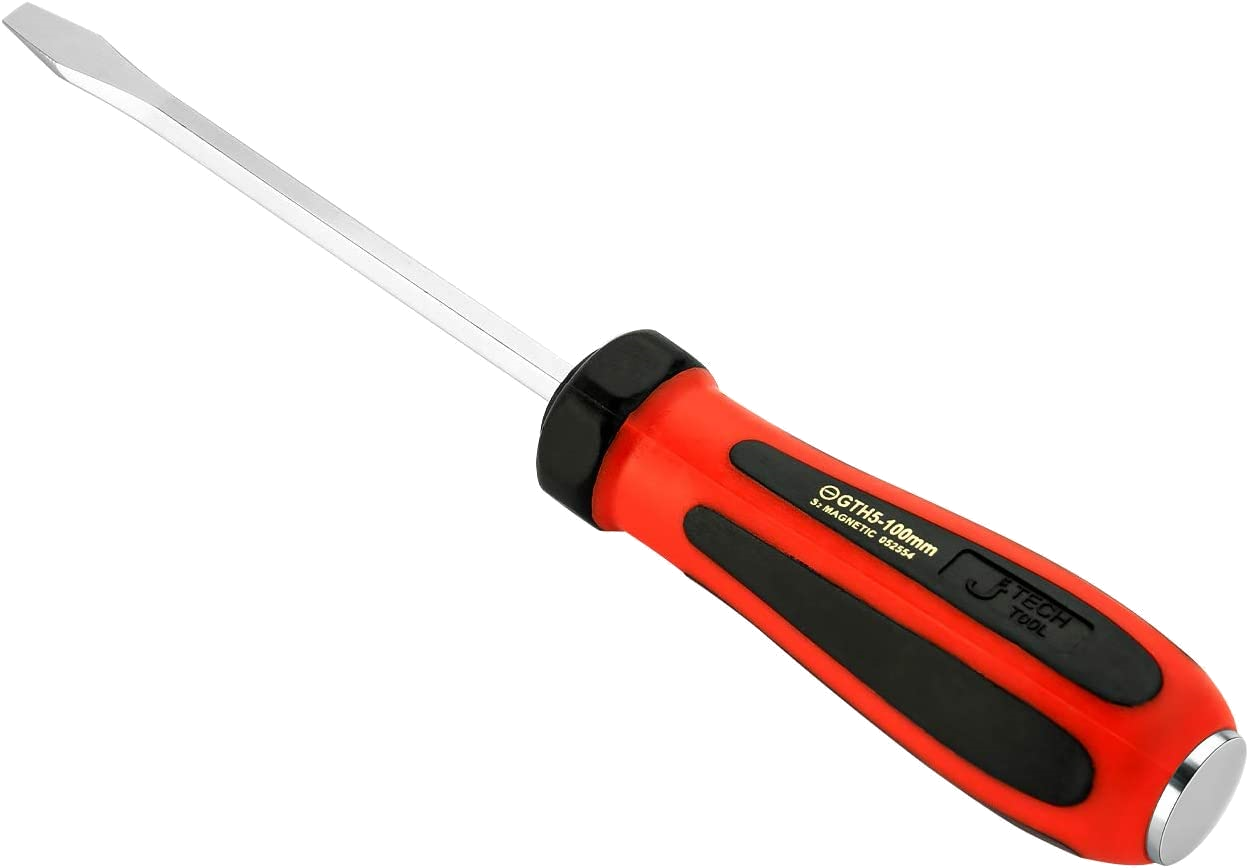screwdriver: (4, 1, 1245, 864)
